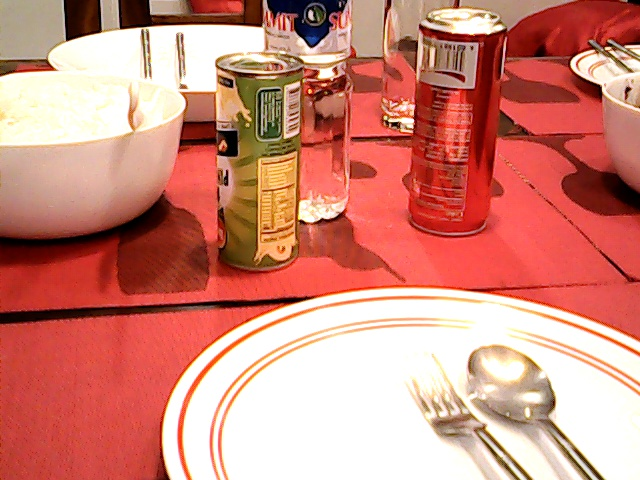Cola: (413, 9, 494, 237)
Pine Juice: (206, 55, 307, 269)
Summit Water: (299, 1, 363, 221)
